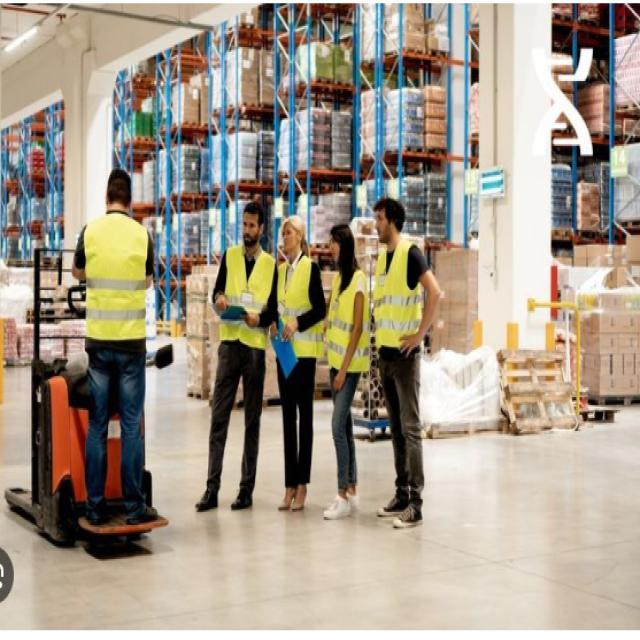boots: (84, 486, 161, 529), (190, 474, 259, 516)
vest: (79, 209, 155, 347), (368, 232, 430, 355), (216, 240, 278, 354), (271, 254, 329, 362), (327, 265, 374, 380)
